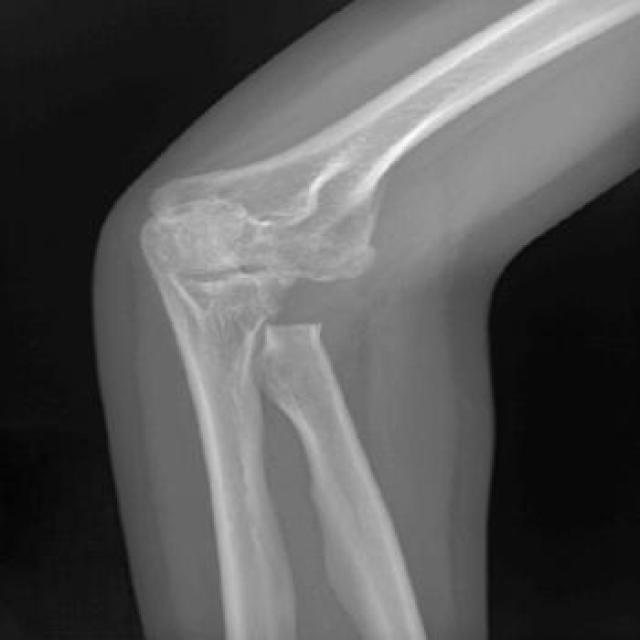Fracture: (251, 250, 393, 358)
